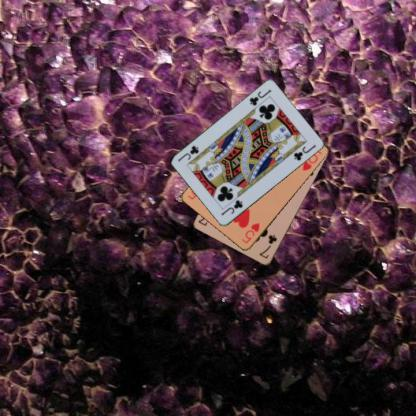5h: (239, 220, 261, 245)
7c: (256, 232, 278, 260)
Jc: (246, 86, 272, 108), (218, 198, 244, 216)
